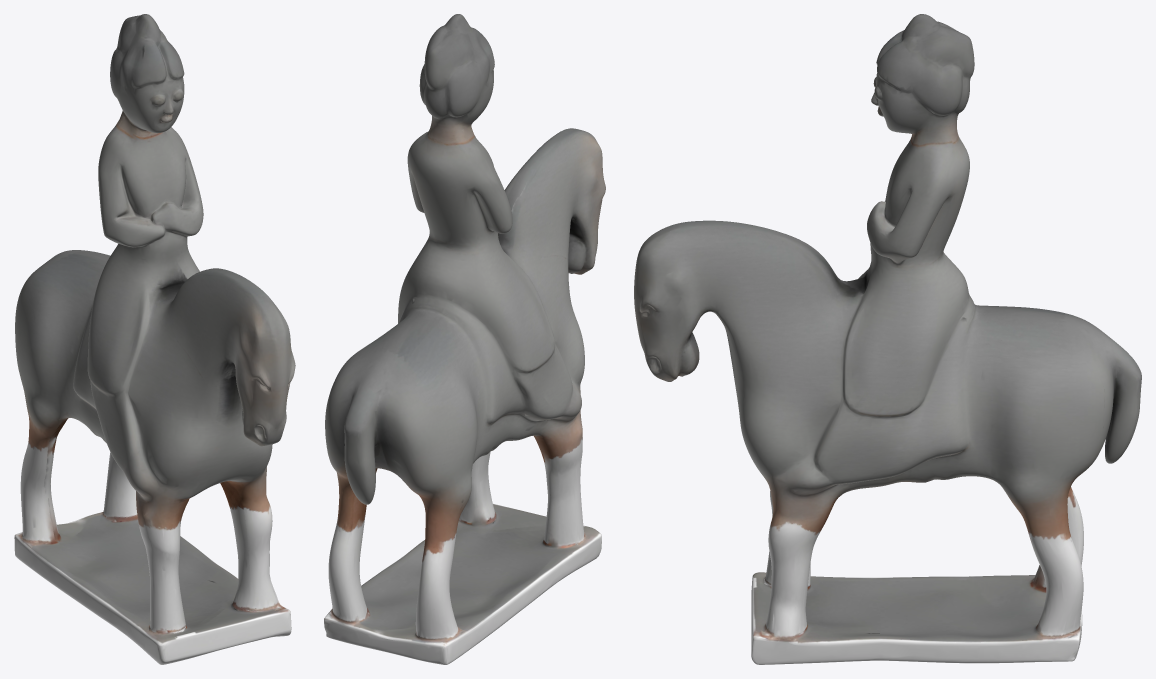
3 renders of one model, left to right at view 1: azimuth 30°, elevation 25°; view 2: azimuth 150°, elevation 25°; view 3: azimuth 270°, elevation 25°, orthographic. The views are drawn at different scales.
Visible parts, largest first — view 1: node_0; view 2: node_0; view 3: node_0.
Boxes of the visible parts, x1,y1,x2,y2 form: node_0: (14, 14, 295, 664); node_0: (324, 14, 605, 664); node_0: (634, 14, 1141, 664).
Size of the model in its own units: 0.2512 by 1.03 by 0.7719.
1 material, 1 textured.
